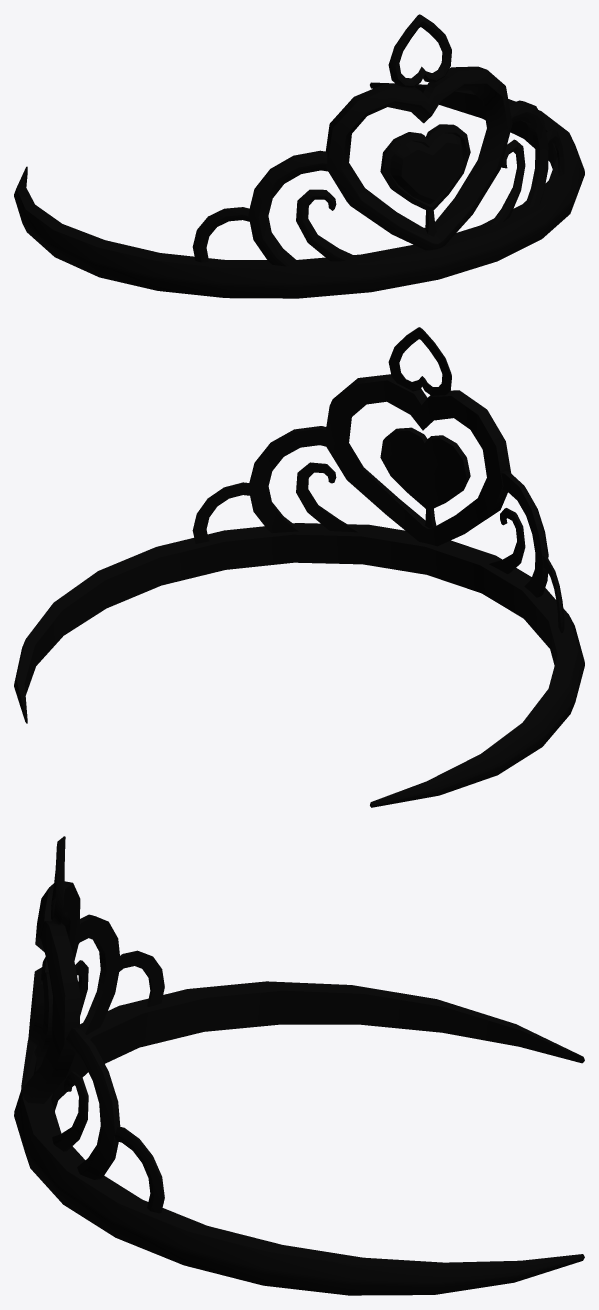
File: crown 2.fbx
The picture shows the model from 3 angles, top to bottom: view 1: azimuth 30°, elevation 25°; view 2: azimuth 150°, elevation 25°; view 3: azimuth 270°, elevation 25°; orthographic projection. The views are drawn at different scales.
Visible parts, largest first — view 1: PrincessTiara_PrincessTiara_0; view 2: PrincessTiara_PrincessTiara_0; view 3: PrincessTiara_PrincessTiara_0.
Part boxes in pixels (bbox=[...]): PrincessTiara_PrincessTiara_0: bbox=[14, 14, 584, 298]; PrincessTiara_PrincessTiara_0: bbox=[14, 327, 584, 807]; PrincessTiara_PrincessTiara_0: bbox=[14, 836, 584, 1295].
Bounding box in the file's own units: 3275 × 1746 × 2776.
